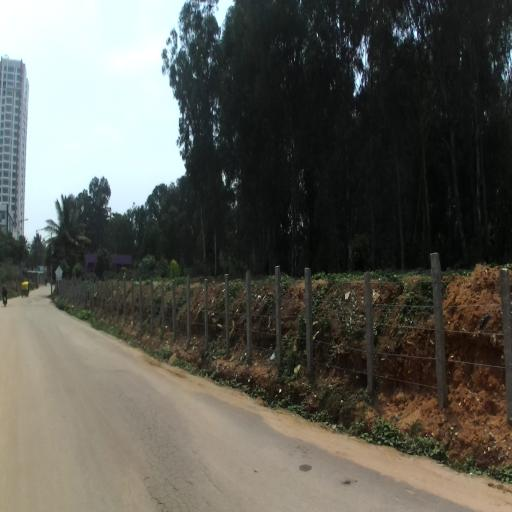street_light_0: (18, 218, 29, 223), (36, 228, 44, 233)
